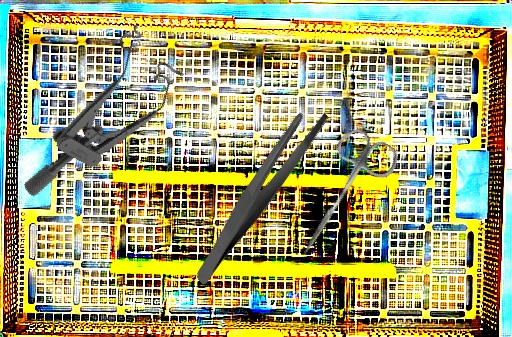Dressing Forceps: (158, 100, 360, 286)
Iris Scissors: (279, 121, 404, 272)
Speculum: (20, 13, 195, 233)
